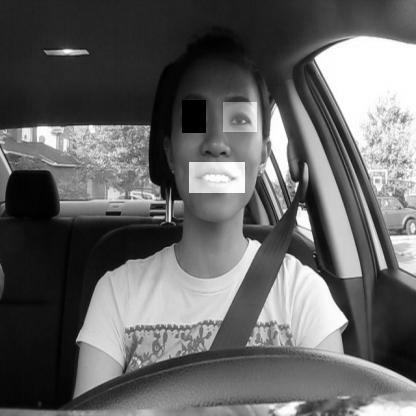seatbelt: (142, 28, 296, 350)
